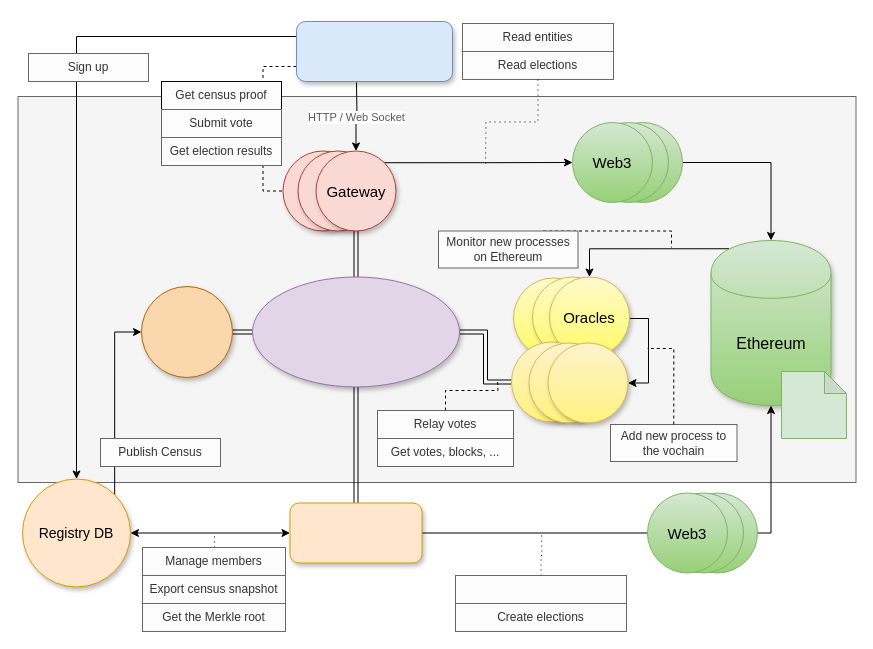
The diagram is 873 pixels wide and 649 high, and some of its shapes have lost their labels. Here are the shapes that lost their labels. From the top down, the centre of each, then its label:
At [375,52]: "Voter App".
At [187,333]: "Census Service".
At [357,333]: "P2P networking Messaging File sharing Voting blockchain".
At [588,384]: "Miners".
At [813,404]: "Smart Contract".
At [356,534]: "Entity Manager".
At [540,589]: "Set entity metadata".
